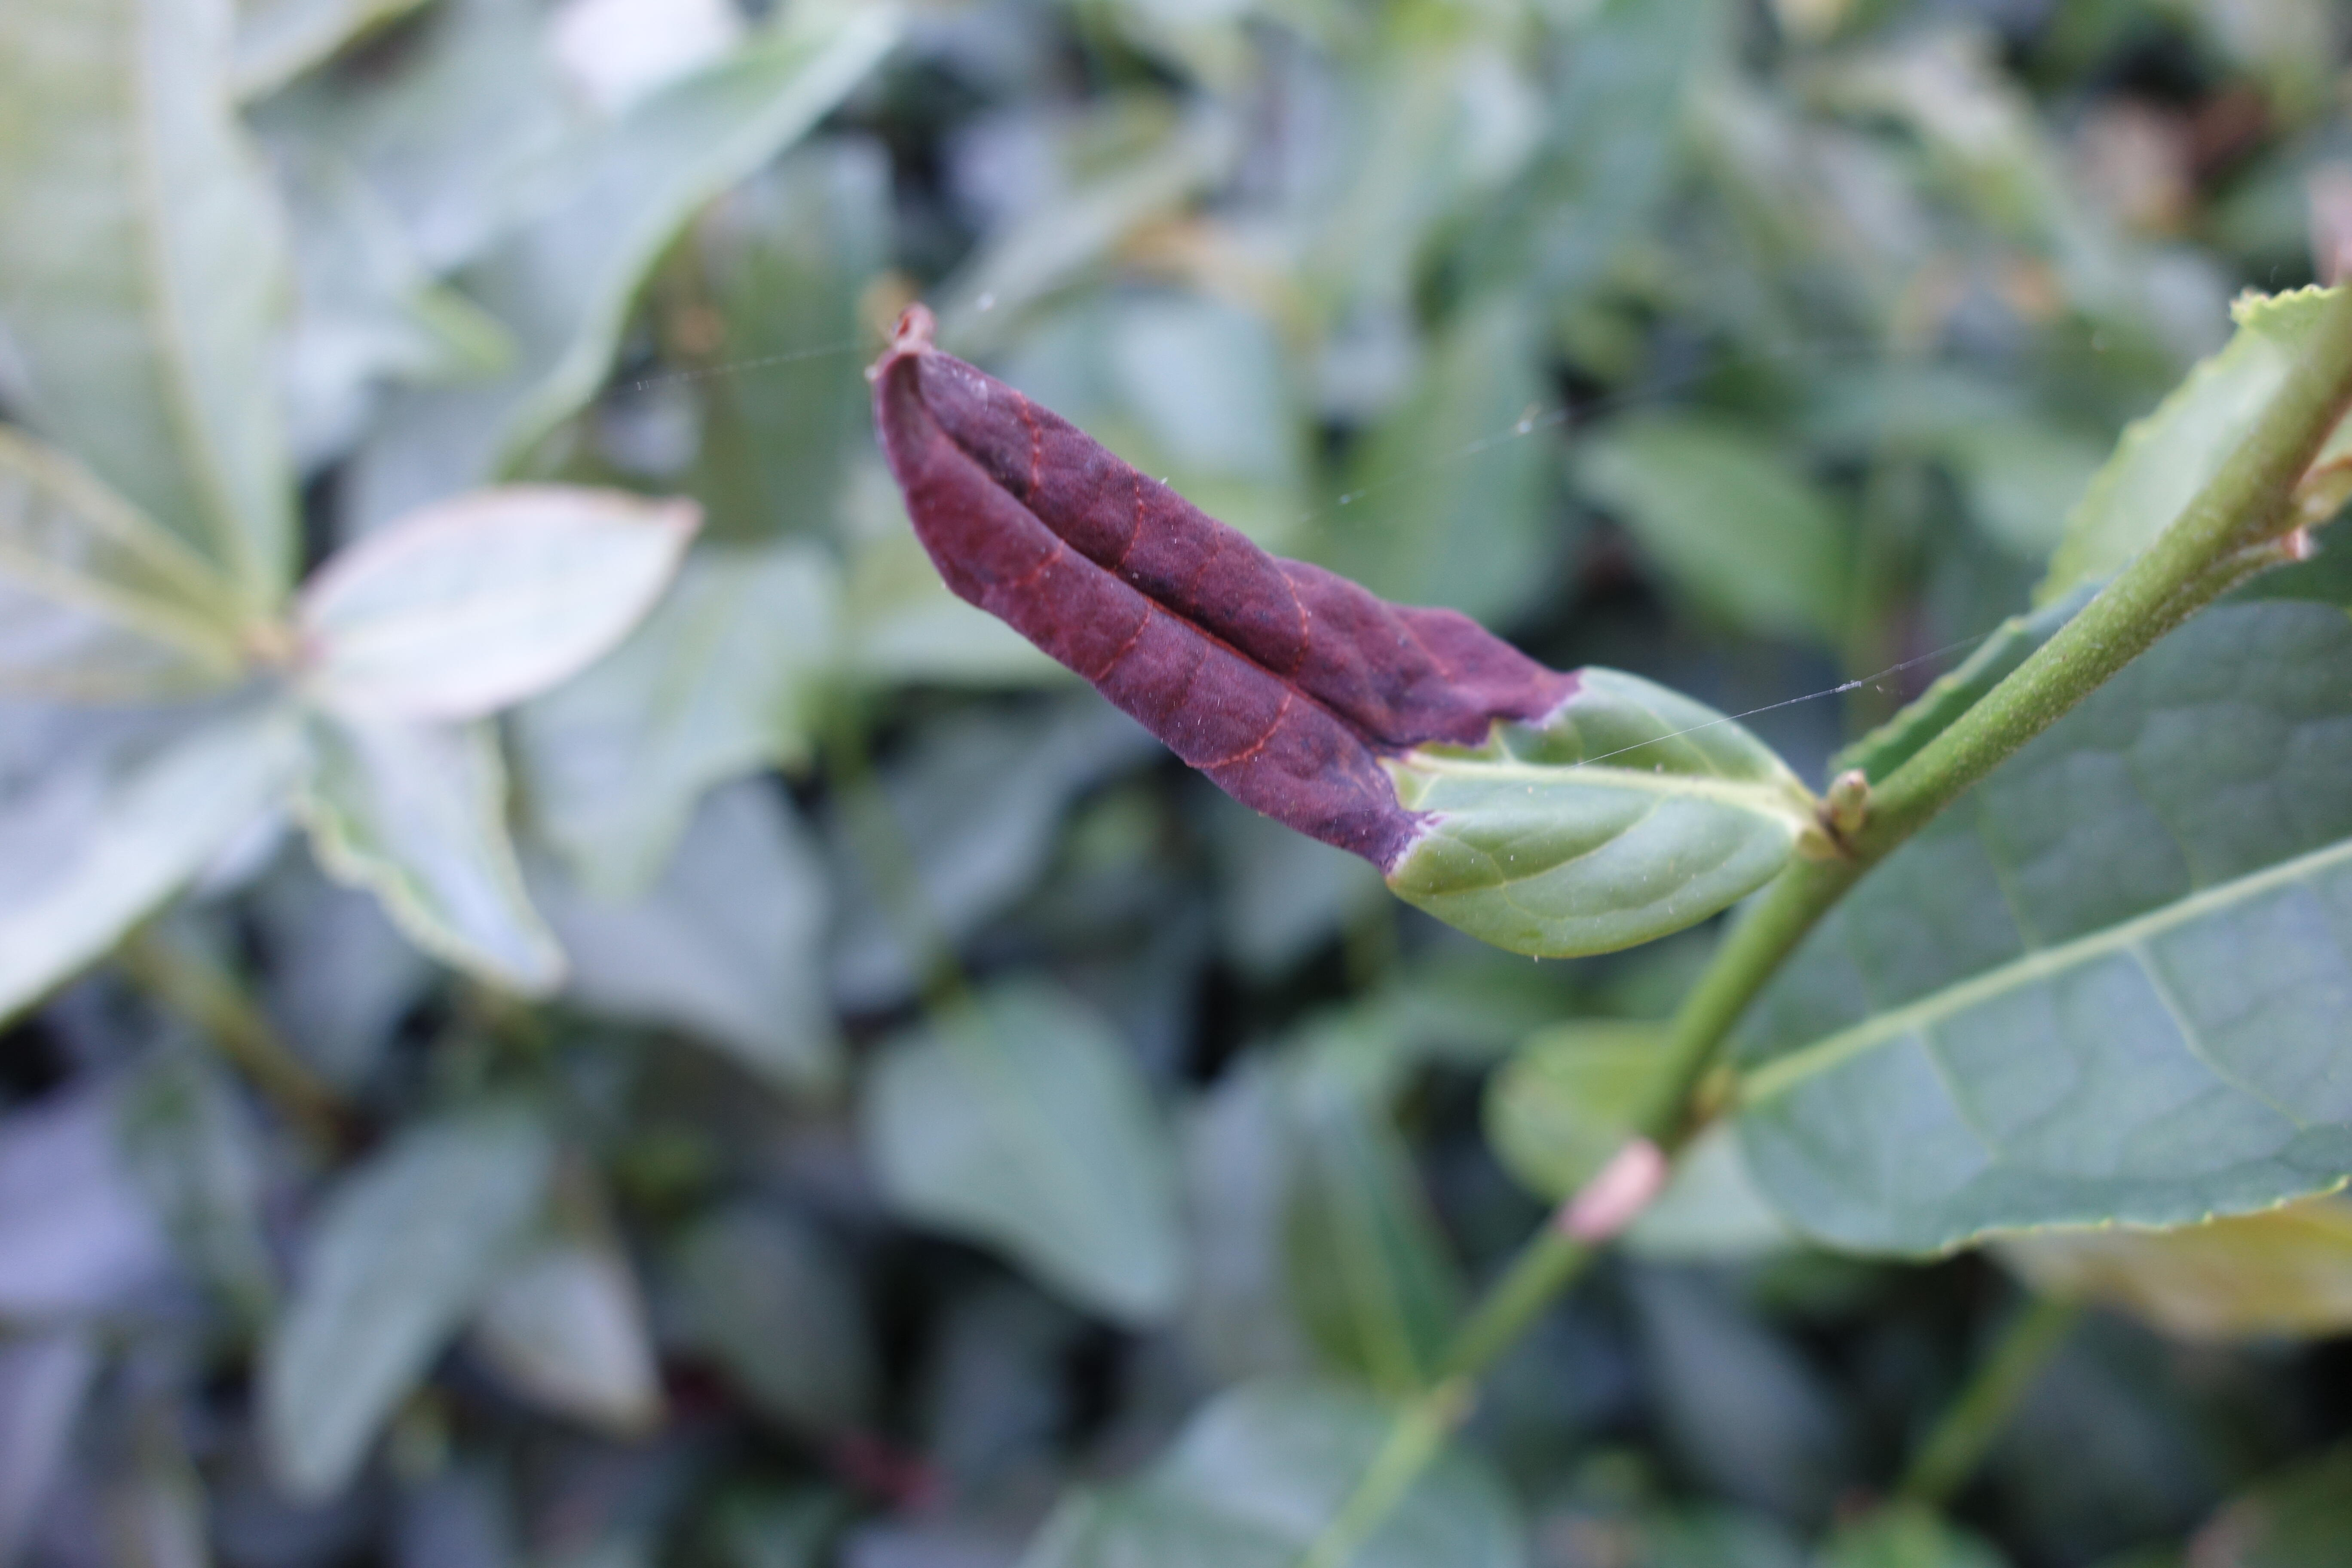tanju_high: (864, 303, 1811, 962)
